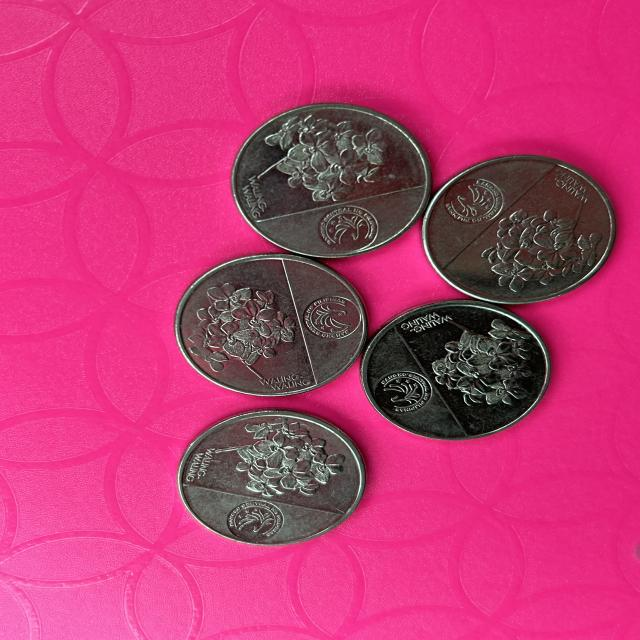1_New_Back: (181, 276, 307, 372), (424, 316, 544, 410), (216, 416, 346, 502), (266, 112, 400, 193), (491, 206, 613, 284)
